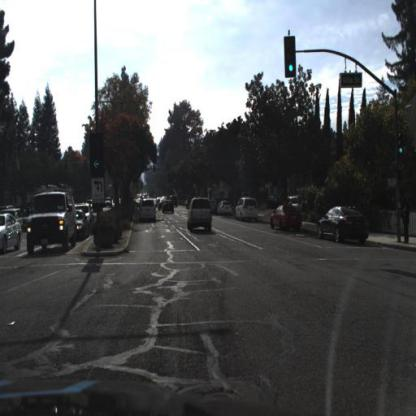car: (317, 204, 372, 244), (185, 196, 215, 240), (269, 205, 303, 234), (139, 195, 161, 231), (235, 196, 260, 221), (73, 204, 88, 242), (80, 201, 95, 239), (162, 197, 176, 218), (218, 201, 233, 217), (171, 195, 181, 207), (155, 197, 167, 206)
pedestrian: (400, 197, 411, 247)
trafficLight-Green: (285, 36, 298, 77), (398, 133, 405, 159)
trafficLight-RedLeft: (92, 134, 104, 176)
truck: (23, 179, 78, 262)
